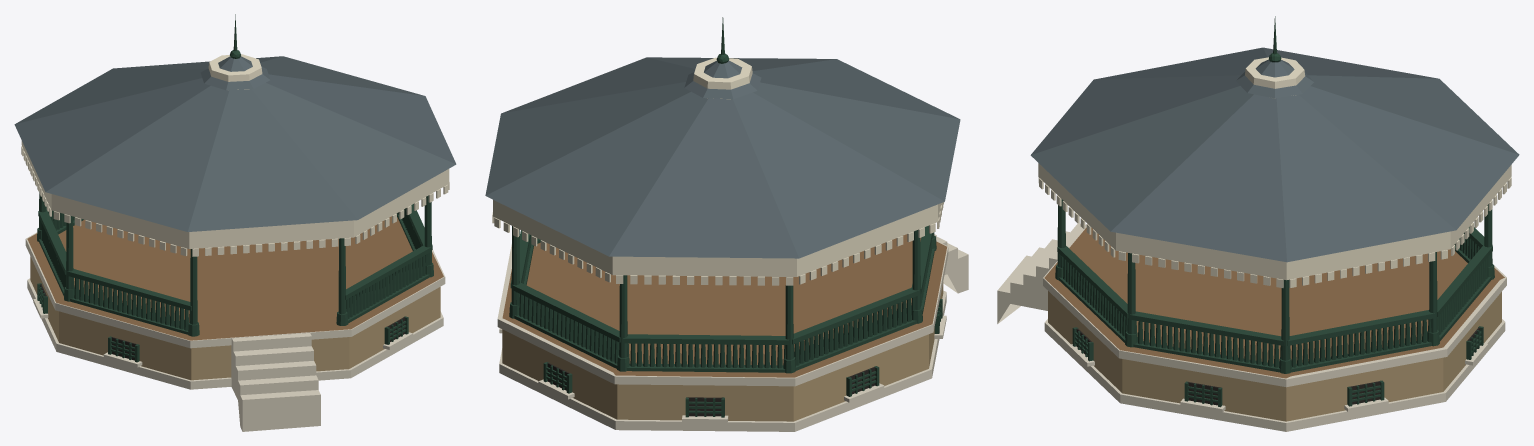
Rendered from hyde_park_bandstand.glb.
3 renders of one model, left to right at view 1: azimuth 30°, elevation 25°; view 2: azimuth 150°, elevation 25°; view 3: azimuth 270°, elevation 25°, orthographic. The views are drawn at different scales.
Size of the model in its own units: 12.48 by 9.38 by 13.32.
